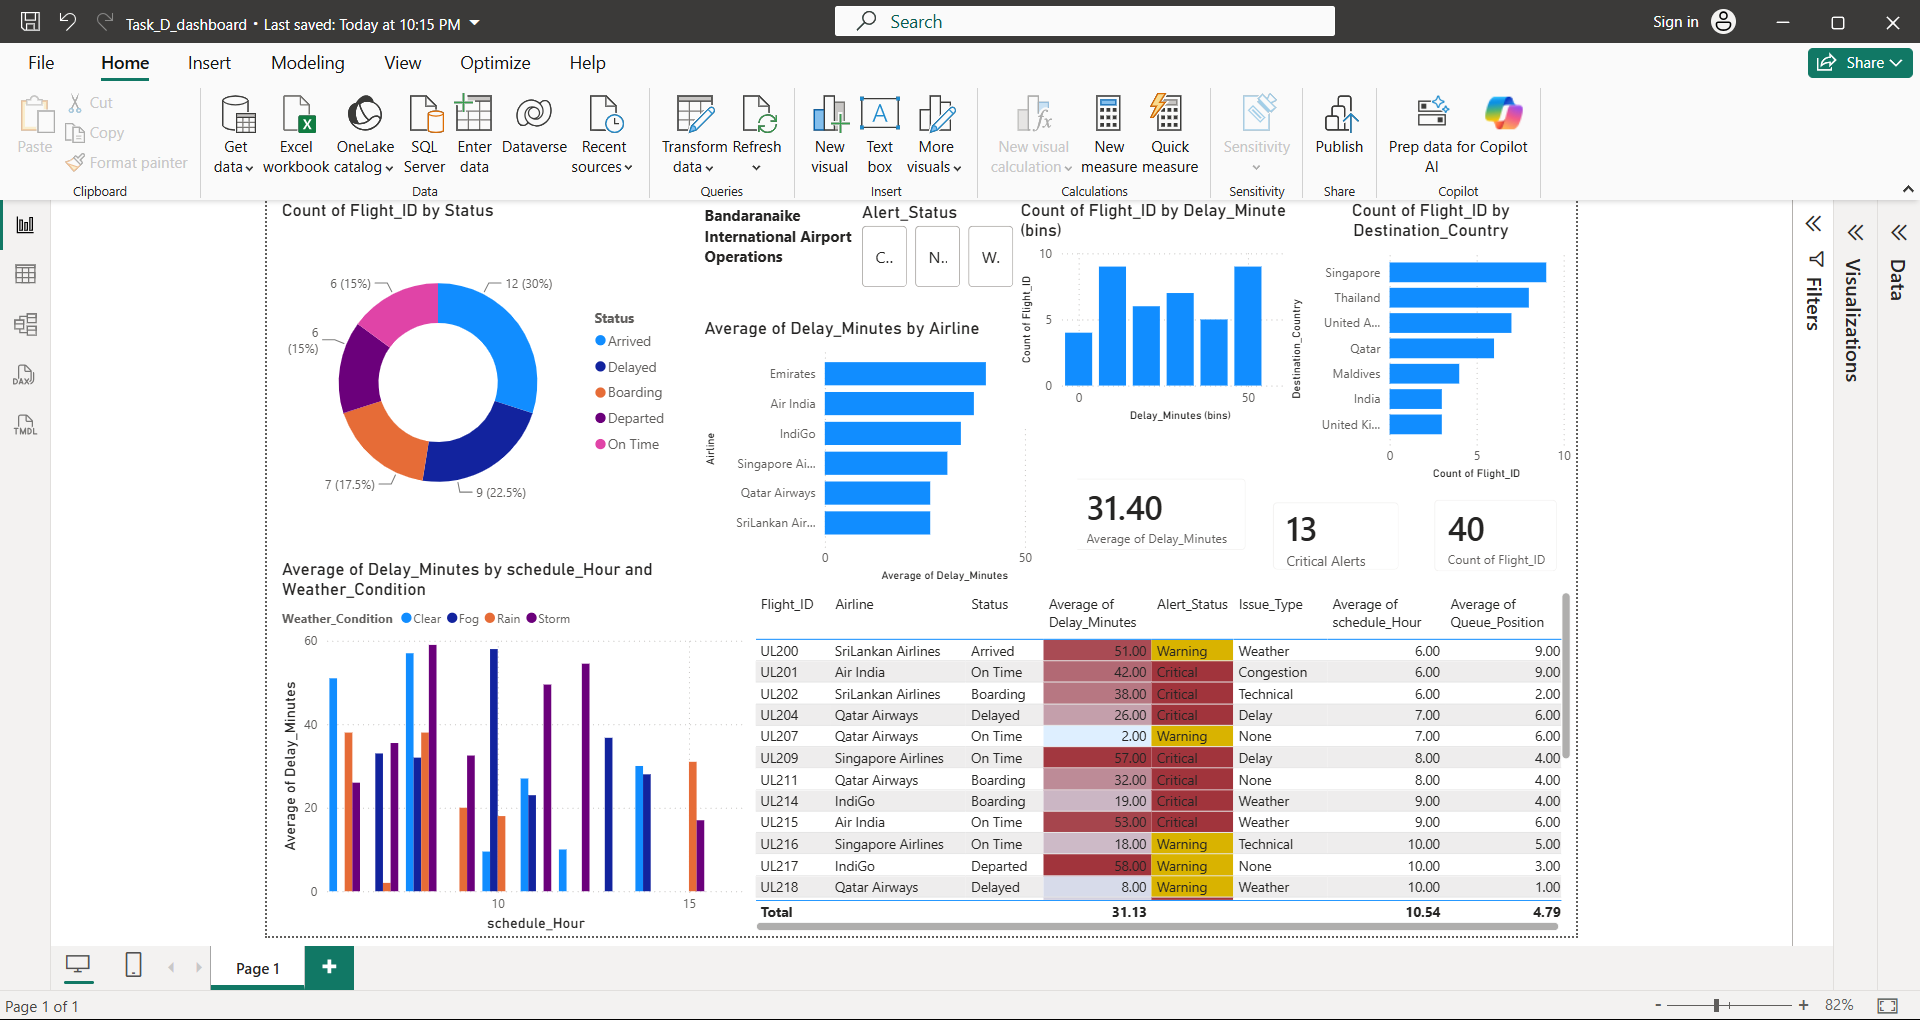

The dashboard page shown, as its layout file describes it:
{"tool":"powerbi","page":{"name":"Page 1","canvas":[1280,720],"ordinal":0},"visuals":[{"type":"donutChart","fields":{"Category":["BIA_CMB_Dataset.Status"],"Y":["CountNonNull(BIA_CMB_Dataset.Flight_ID)"]},"box":[9.4,0,393.5,338.3],"z":0},{"type":"cardVisual","fields":{"Data":["CountNonNull(BIA_CMB_Dataset.Flight_ID)"]},"box":[1125.3,275.9,154.9,104.7],"z":1000},{"type":"cardVisual","fields":{"Data":["Avg(BIA_CMB_Dataset.Delay_Minutes)"]},"box":[772,255.5,203.9,104.7],"z":2000},{"type":"cardVisual","fields":{"Data":["BIA_CMB_Dataset.Critical Alerts"]},"box":[967.7,278.6,157.7,100.6],"z":3000},{"type":"clusteredBarChart","fields":{"Category":["BIA_CMB_Dataset.Airline"],"Y":["Avg(BIA_CMB_Dataset.Delay_Minutes)"]},"box":[422.7,115.5,369.7,263.7],"z":4000},{"type":"columnChart","fields":{"Category":["BIA_CMB_Dataset.Delay_Minutes (bins)"],"Y":["CountNonNull(BIA_CMB_Dataset.Flight_ID)"]},"box":[732.6,0,281.3,221.5],"z":5000},{"type":"clusteredColumnChart","fields":{"Category":["BIA_CMB_Dataset.schedule_Hour"],"Y":["Avg(BIA_CMB_Dataset.Delay_Minutes)"],"Series":["BIA_CMB_Dataset.Weather_Condition"]},"box":[9.4,350.4,462.2,369.3],"z":6000},{"type":"tableEx","fields":{"Values":["BIA_CMB_Dataset.Flight_ID","BIA_CMB_Dataset.Airline","BIA_CMB_Dataset.Status","Avg(BIA_CMB_Dataset.Delay_Minutes)","BIA_CMB_Dataset.Alert_Status","BIA_CMB_Dataset.Issue_Type","Avg(BIA_CMB_Dataset.schedule_Hour)","Avg(BIA_CMB_Dataset.Queue_Position)"]},"box":[471.7,378.7,808.6,341],"z":7000},{"type":"clusteredBarChart","fields":{"Category":["BIA_CMB_Dataset.Destination_Country"],"Y":["CountNonNull(BIA_CMB_Dataset.Flight_ID)"]},"box":[996.2,0,284.1,278.6],"z":8000},{"type":"textbox","box":[422.7,0,154.9,91.1],"z":9000},{"type":"advancedSlicerVisual","fields":{"Values":["BIA_CMB_Dataset.Alert_Status"]},"box":[577.6,1.4,159,89.7],"z":10000}]}

Visuals, with their boxes on the page's 1280x720 design canvas (x1, y1, x2, y2). These are canvas units, not pixel positions in the 1920x1020 screenshot, which may show the page scaled, cropped or inside an application window:
donutChart - BIA_CMB_Dataset.Status x CountNonNull(BIA_CMB_Dataset.Flight_ID): <bbox>9, 0, 403, 338</bbox>
cardVisual - CountNonNull(BIA_CMB_Dataset.Flight_ID): <bbox>1125, 276, 1280, 381</bbox>
cardVisual - Avg(BIA_CMB_Dataset.Delay_Minutes): <bbox>772, 256, 976, 360</bbox>
cardVisual - BIA_CMB_Dataset.Critical Alerts: <bbox>968, 279, 1125, 379</bbox>
clusteredBarChart - BIA_CMB_Dataset.Airline x Avg(BIA_CMB_Dataset.Delay_Minutes): <bbox>423, 116, 792, 379</bbox>
columnChart - BIA_CMB_Dataset.Delay_Minutes (bins) x CountNonNull(BIA_CMB_Dataset.Flight_ID): <bbox>733, 0, 1014, 222</bbox>
clusteredColumnChart - BIA_CMB_Dataset.schedule_Hour x Avg(BIA_CMB_Dataset.Delay_Minutes): <bbox>9, 350, 472, 720</bbox>
tableEx - BIA_CMB_Dataset.Flight_ID x BIA_CMB_Dataset.Airline: <bbox>472, 379, 1280, 720</bbox>
clusteredBarChart - BIA_CMB_Dataset.Destination_Country x CountNonNull(BIA_CMB_Dataset.Flight_ID): <bbox>996, 0, 1280, 279</bbox>
textbox: <bbox>423, 0, 578, 91</bbox>
advancedSlicerVisual - BIA_CMB_Dataset.Alert_Status: <bbox>578, 1, 737, 91</bbox>
